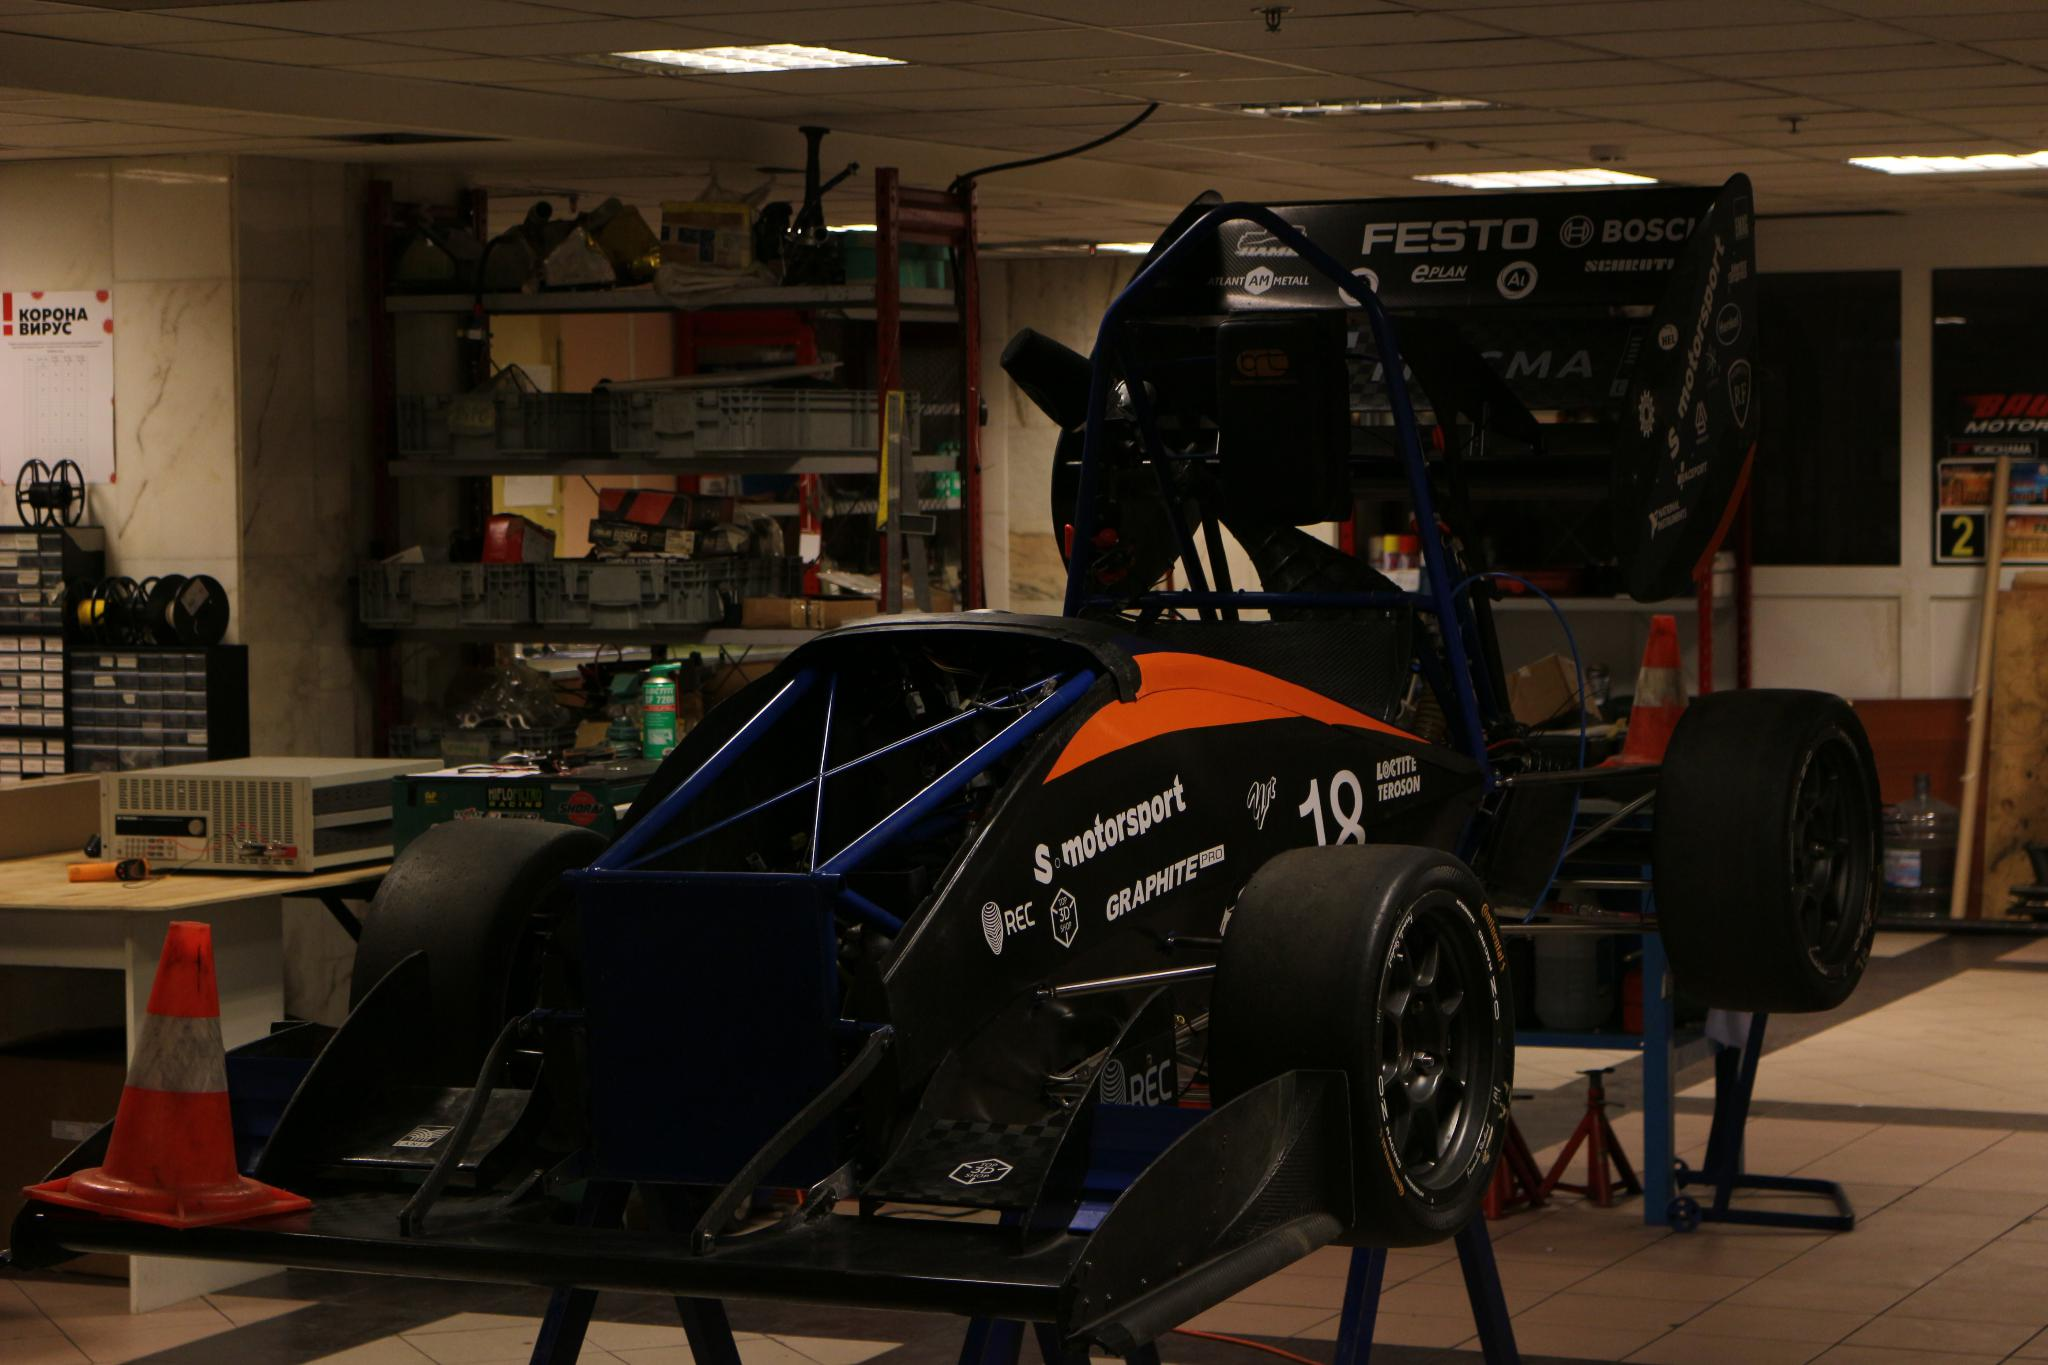Orange_Cone: (21, 900, 308, 1234), (1593, 611, 1719, 780)
